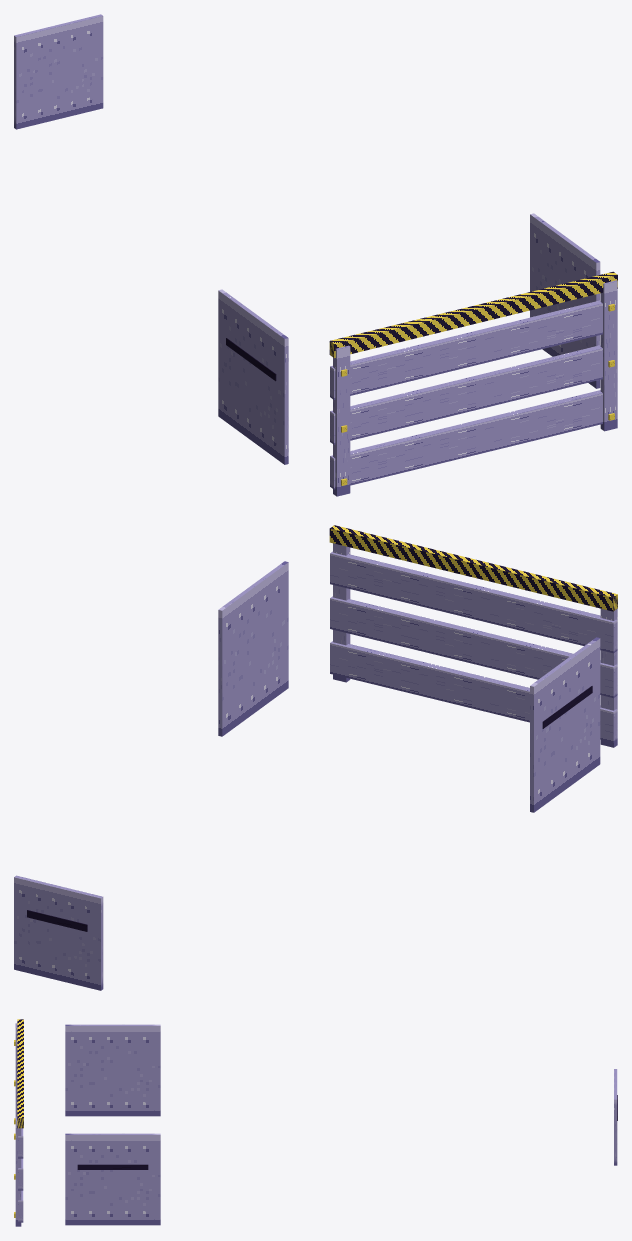
Rendered from Upgrade Window Armor.fbx.
3 views of the same model, one above another, from view 1: azimuth 30°, elevation 25°; view 2: azimuth 150°, elevation 25°; view 3: azimuth 270°, elevation 25° (orthographic). The views are drawn at different scales.
Parts seen in each view (by area): view 1: Upgrade Window Armor armor slat 2, Upgrade Window Armor armor slat 1, Upgrade Window Armor armor slat 0, Upgrade Window Armor armor cab door -X.001, Upgrade Window Armor armor rear door.001, Upgrade Window Armor armor top band, Upgrade Window Armor armor cab door +X.001, Upgrade Window Armor armor strap -1, Upgrade Window Armor armor strap 1; view 2: Upgrade Window Armor armor slat 2, Upgrade Window Armor armor cab door +X.001, Upgrade Window Armor armor cab door -X.001, Upgrade Window Armor armor slat 1, Upgrade Window Armor armor rear door.001, Upgrade Window Armor armor slat 0, Upgrade Window Armor armor top band, Upgrade Window Armor armor strap -1, Upgrade Window Armor armor strap 1; view 3: Upgrade Window Armor armor cab door -X.001, Upgrade Window Armor armor cab door +X.001, Upgrade Window Armor armor top band, Upgrade Window Armor armor strap 1, Upgrade Window Armor armor cab door +X slit, Upgrade Window Armor armor rear door.001.
Part boxes in pixels (left/top/right/bottom): Upgrade Window Armor armor slat 2: left=330, top=300, right=602, bottom=399; Upgrade Window Armor armor slat 1: left=330, top=345, right=602, bottom=444; Upgrade Window Armor armor slat 0: left=330, top=390, right=602, bottom=489; Upgrade Window Armor armor cab door -X.001: left=218, top=289, right=288, bottom=464; Upgrade Window Armor armor rear door.001: left=14, top=14, right=103, bottom=129; Upgrade Window Armor armor top band: left=329, top=271, right=617, bottom=357; Upgrade Window Armor armor cab door +X.001: left=530, top=213, right=600, bottom=388; Upgrade Window Armor armor strap -1: left=333, top=345, right=350, bottom=496; Upgrade Window Armor armor strap 1: left=600, top=280, right=617, bottom=431; Upgrade Window Armor armor slat 2: left=330, top=551, right=617, bottom=653; Upgrade Window Armor armor cab door +X.001: left=218, top=561, right=288, bottom=736; Upgrade Window Armor armor cab door -X.001: left=530, top=637, right=600, bottom=812; Upgrade Window Armor armor slat 1: left=330, top=596, right=617, bottom=698; Upgrade Window Armor armor rear door.001: left=14, top=875, right=103, bottom=990; Upgrade Window Armor armor slat 0: left=330, top=641, right=617, bottom=742; Upgrade Window Armor armor top band: left=329, top=525, right=617, bottom=611; Upgrade Window Armor armor strap -1: left=600, top=608, right=617, bottom=747; Upgrade Window Armor armor strap 1: left=333, top=543, right=350, bottom=682; Upgrade Window Armor armor cab door -X.001: left=65, top=1024, right=160, bottom=1116; Upgrade Window Armor armor cab door +X.001: left=65, top=1133, right=160, bottom=1225; Upgrade Window Armor armor top band: left=17, top=1019, right=23, bottom=1128; Upgrade Window Armor armor strap 1: left=15, top=1116, right=21, bottom=1226; Upgrade Window Armor armor cab door +X slit: left=77, top=1164, right=148, bottom=1169; Upgrade Window Armor armor rear door.001: left=614, top=1069, right=617, bottom=1165.
Size of the model in its own units: 2.37 by 1.08 by 5.46.
Materials: 4 (4 with a texture image).
